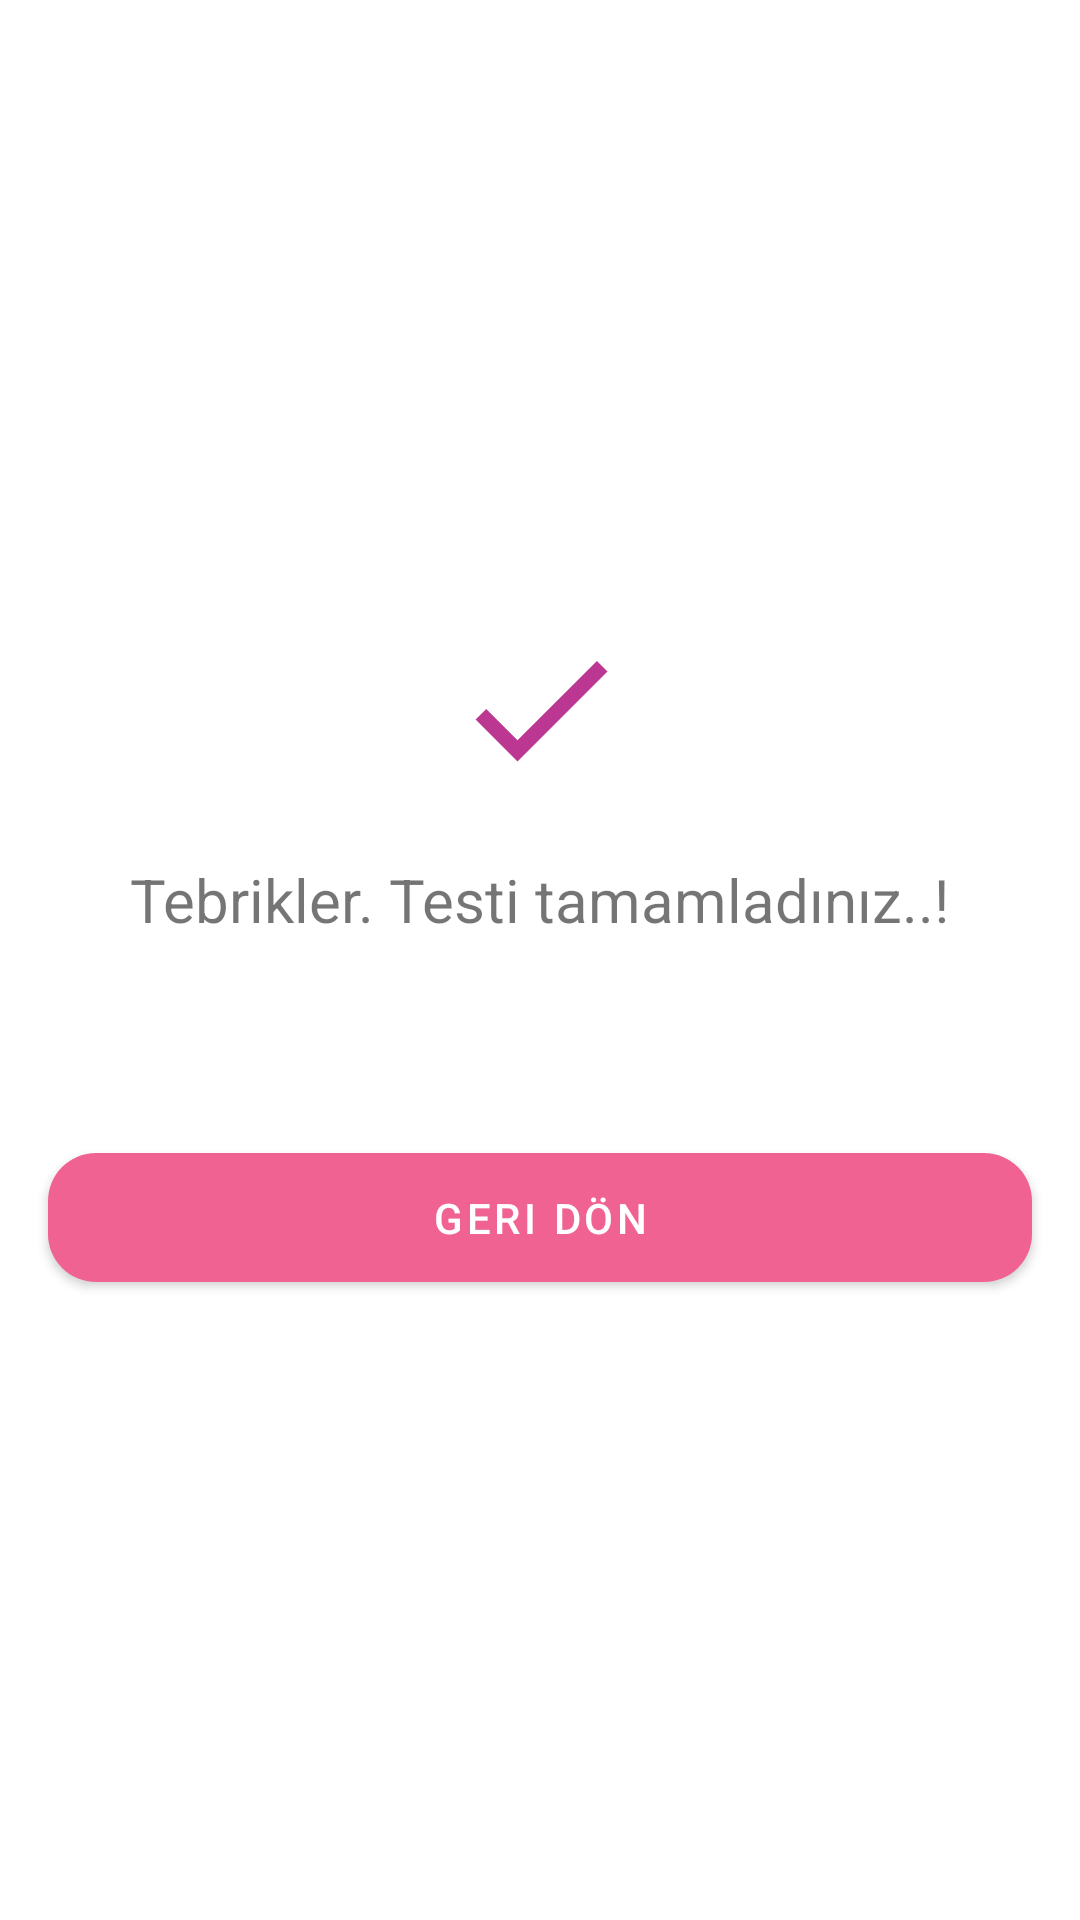

Point at icon controls on the screen. Image size 1080×1920, points as (x,y).
success: (541,711)
